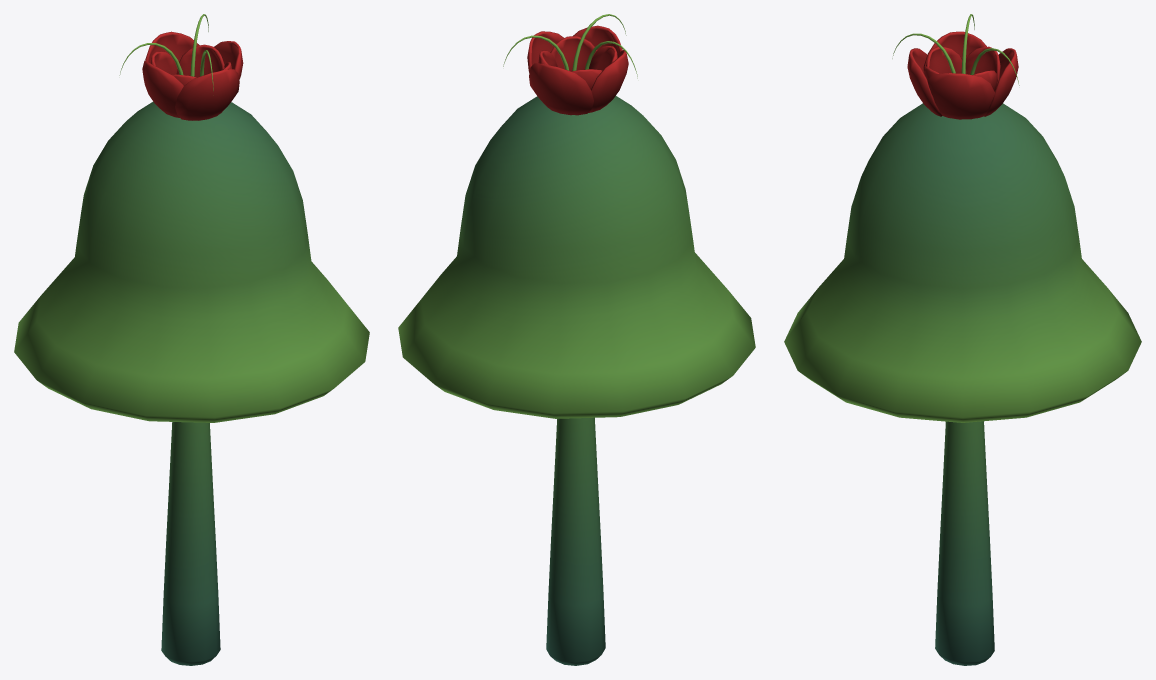
The model's file is Fungus-3-3.fbx.
The picture shows the model from 3 angles, left to right: view 1: azimuth 30°, elevation 25°; view 2: azimuth 150°, elevation 25°; view 3: azimuth 270°, elevation 25°; orthographic projection.
Visible parts, largest first — view 1: Fungus-3-3; view 2: Fungus-3-3; view 3: Fungus-3-3.
Part boxes in pixels (x1,y1,x2,y2): Fungus-3-3: (14,14,369,665); Fungus-3-3: (398,14,755,665); Fungus-3-3: (784,14,1141,665).
Bounding box in the file's own units: 45.16 × 86.72 × 45.16.
